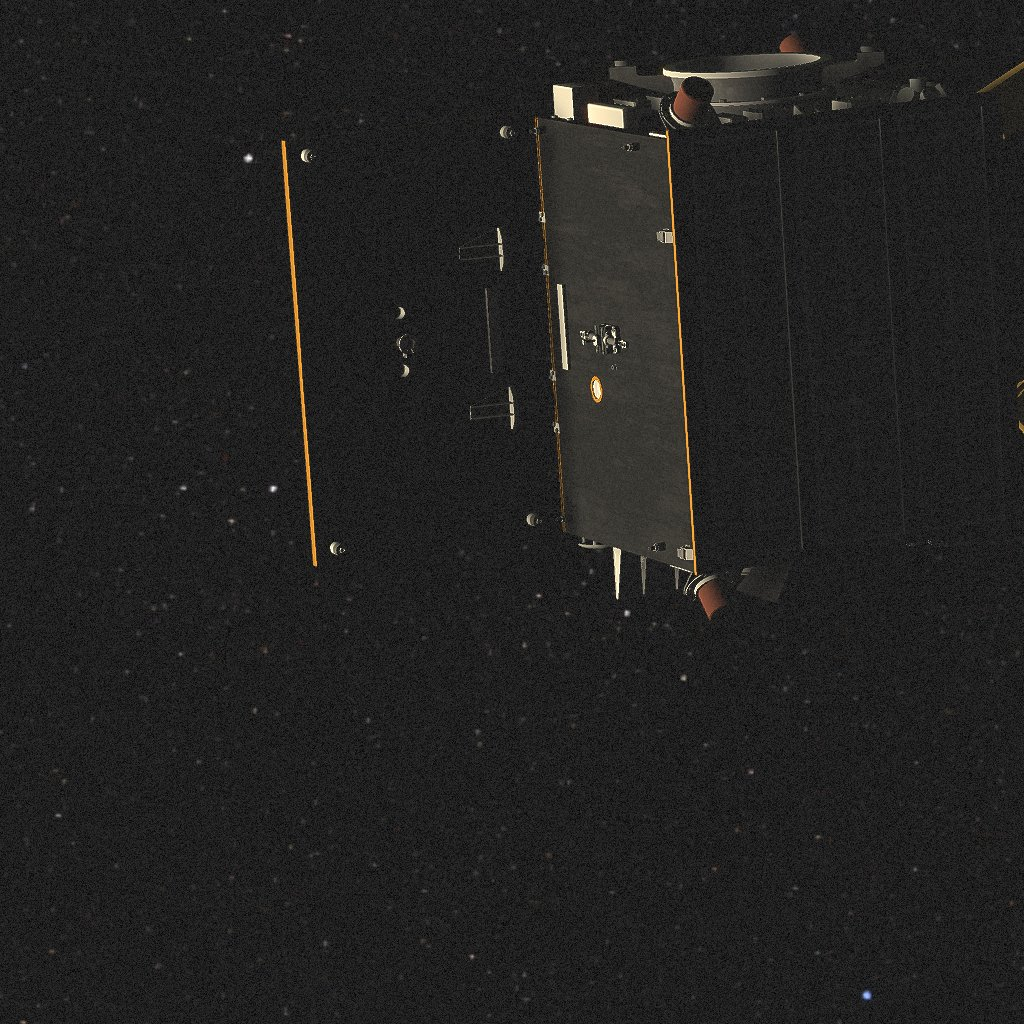proba_2: (315, 39, 1004, 646)
